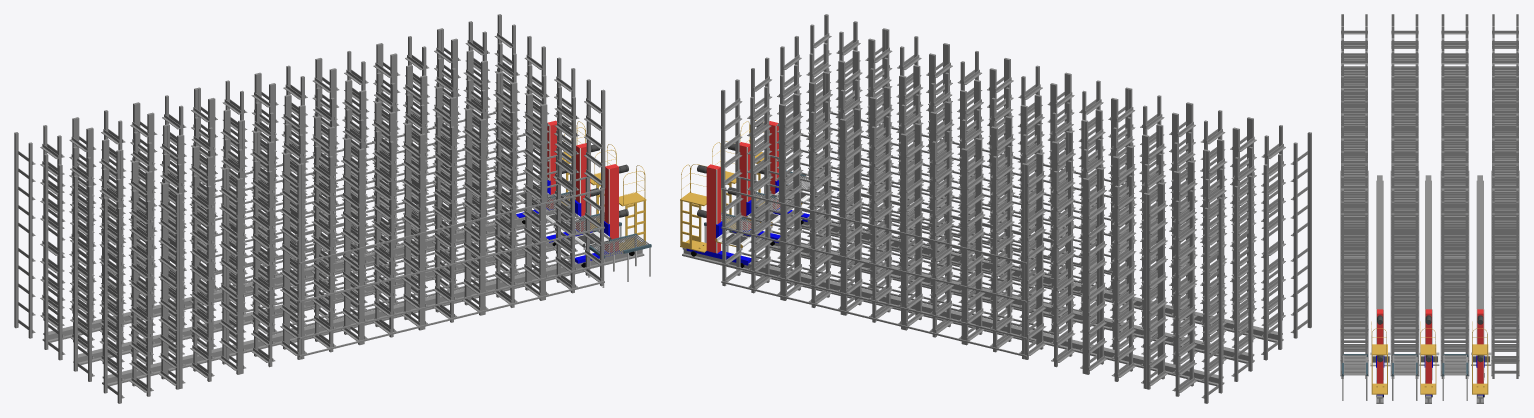
File: CK-huojia0002-ZDH.FBX
3 renders of one model, left to right at view 1: azimuth 30°, elevation 25°; view 2: azimuth 150°, elevation 25°; view 3: azimuth 270°, elevation 25°, orthographic. The views are drawn at different scales.
Visible parts, largest first — view 1: CK-huojia0002-ZDH; view 2: CK-huojia0002-ZDH; view 3: CK-huojia0002-ZDH.
Part boxes in pixels (x1,y1,x2,y2): CK-huojia0002-ZDH: [14, 14, 651, 403]; CK-huojia0002-ZDH: [680, 14, 1311, 403]; CK-huojia0002-ZDH: [1340, 14, 1519, 403].
Bounding box in the file's own units: 18.3 × 6.33 × 6.15.
